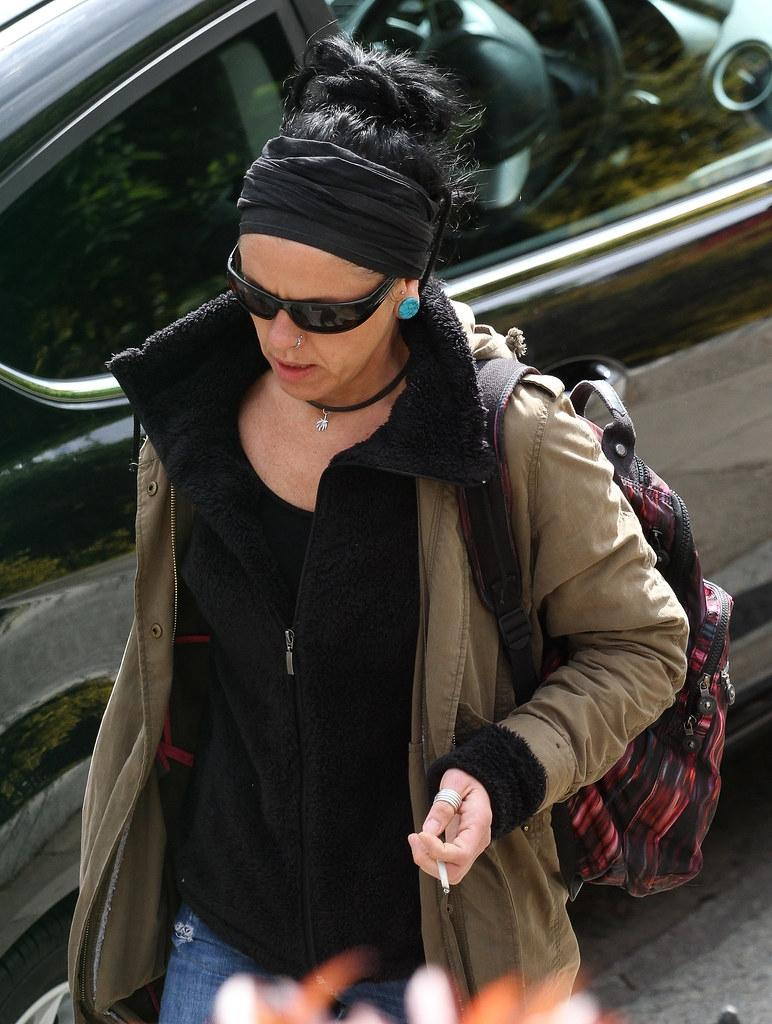cigarette: (435, 858, 451, 894)
